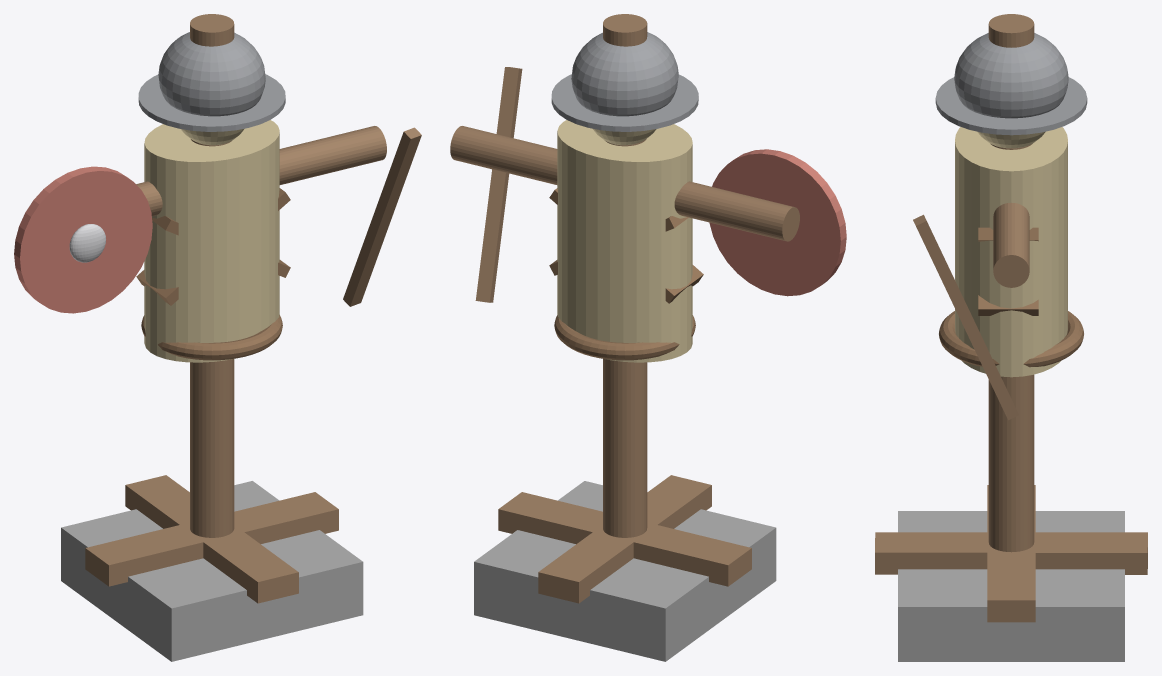
Rendered from training_dummy.glb.
3 renders of one model, left to right at view 1: azimuth 30°, elevation 25°; view 2: azimuth 150°, elevation 25°; view 3: azimuth 270°, elevation 25°, orthographic. The views are drawn at different scales.
Visible parts, largest first — view 1: Cylinder.002, Cube, Cylinder.004, Cylinder, Cube.001, Sphere.001, Cube.002, Cylinder.001, Cylinder.003, Cube.005, Torus, Sphere.002 (+2 smaller); view 2: Cylinder.002, Cube, Cylinder.004, Cylinder, Cylinder.001, Cube.001, Sphere.001, Cube.002, Cube.005, Cylinder.003, Torus, Sphere; view 3: Cube, Cylinder.002, Cylinder, Cube.002, Sphere.001, Cube.001, Cylinder.003, Cylinder.001, Cube.005, Torus, Sphere, Cube.003.
Part boxes in pixels (left/top/right/bottom): Cylinder.002: left=144, top=120, right=279, bottom=362; Cube: left=61, top=481, right=363, bottom=661; Cylinder.004: left=14, top=166, right=152, bottom=313; Cylinder: left=190, top=14, right=234, bottom=537; Cube.001: left=85, top=492, right=338, bottom=586; Sphere.001: left=158, top=32, right=265, bottom=116; Cube.002: left=125, top=475, right=298, bottom=603; Cylinder.001: left=136, top=126, right=386, bottom=216; Cylinder.003: left=138, top=74, right=285, bottom=131; Cube.005: left=343, top=127, right=421, bottom=306; Torus: left=141, top=315, right=282, bottom=360; Sphere.002: left=69, top=224, right=105, bottom=262; Cylinder.002: left=557, top=120, right=692, bottom=362; Cube: left=474, top=481, right=776, bottom=661; Cylinder.004: left=709, top=149, right=846, bottom=296; Cylinder: left=603, top=14, right=647, bottom=537; Cylinder.001: left=450, top=126, right=799, bottom=241; Cube.001: left=498, top=492, right=751, bottom=586; Sphere.001: left=571, top=32, right=678, bottom=116; Cube.002: left=538, top=475, right=711, bottom=603; Cube.005: left=475, top=67, right=522, bottom=302; Cylinder.003: left=551, top=74, right=698, bottom=131; Torus: left=554, top=315, right=695, bottom=360; Sphere: left=593, top=129, right=656, bottom=145; Cube: left=898, top=511, right=1124, bottom=661; Cylinder.002: left=955, top=127, right=1067, bottom=377; Cylinder: left=988, top=14, right=1034, bottom=552; Cube.002: left=875, top=532, right=1147, bottom=574; Sphere.001: left=954, top=33, right=1068, bottom=118; Cube.001: left=987, top=485, right=1035, bottom=622; Cylinder.003: left=935, top=77, right=1087, bottom=135; Cylinder.001: left=993, top=202, right=1029, bottom=287; Cube.005: left=913, top=214, right=1018, bottom=420; Torus: left=939, top=311, right=1083, bottom=367; Sphere: left=977, top=131, right=1045, bottom=148; Cube.003: left=978, top=295, right=1038, bottom=315.
Size of the model in its own units: 1.46 by 2.15 by 0.9001.
